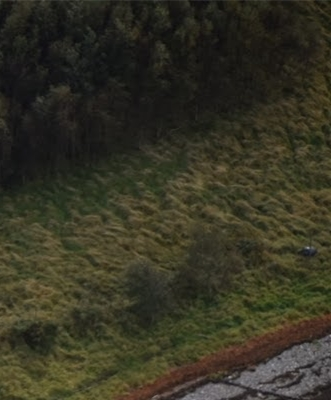white_in_green: (289, 231, 328, 268)
